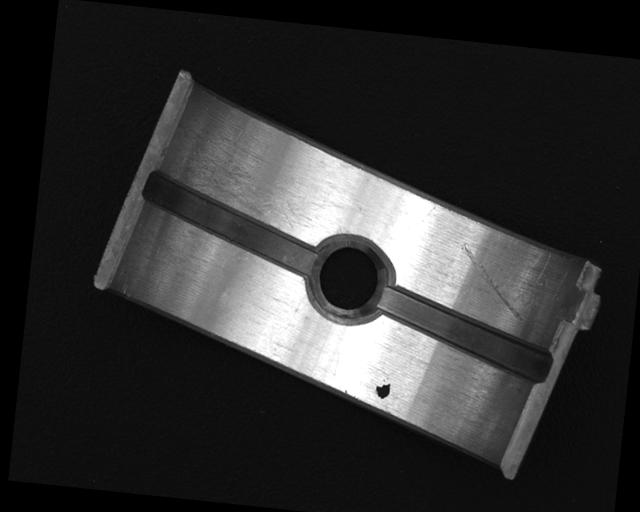blot: (374, 376, 392, 400)
gap: (138, 169, 324, 279), (373, 281, 559, 384)
hole: (304, 231, 394, 329)
nick: (455, 241, 531, 322)
scratch: (165, 127, 322, 234)
